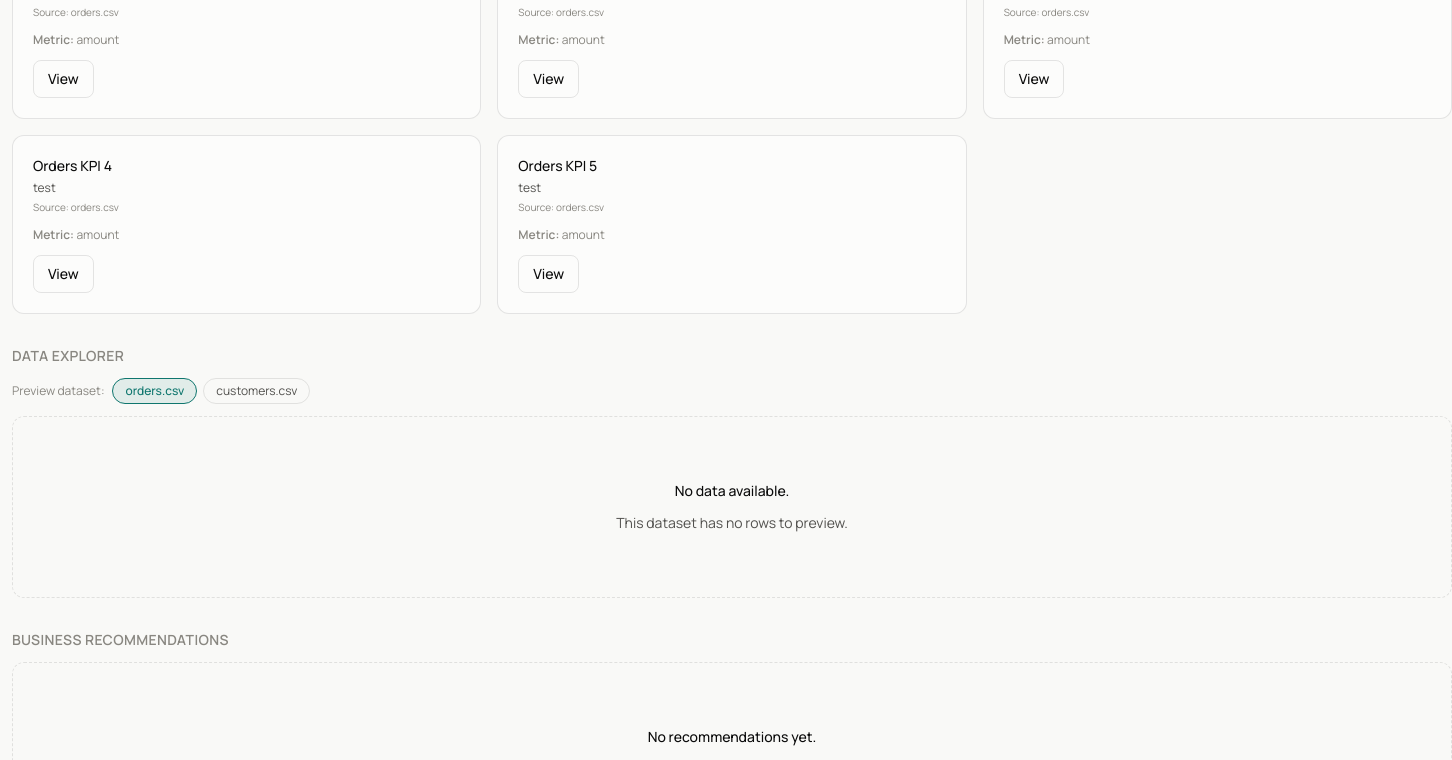
Test: Suggested Visualizations reacts to Data Explorer's preview dataset › surfaces the previewed dataset's own suggestions even when another dataset's already fill the cap
(page scrolled)
Expected: the text "Customers KPI" is not shown
# Switch Data Explorer's preview to "customers".
Click the radio button with aria-label "preview customers.csv": x=257, y=391 [203,378,310,404]
(page scrolled)
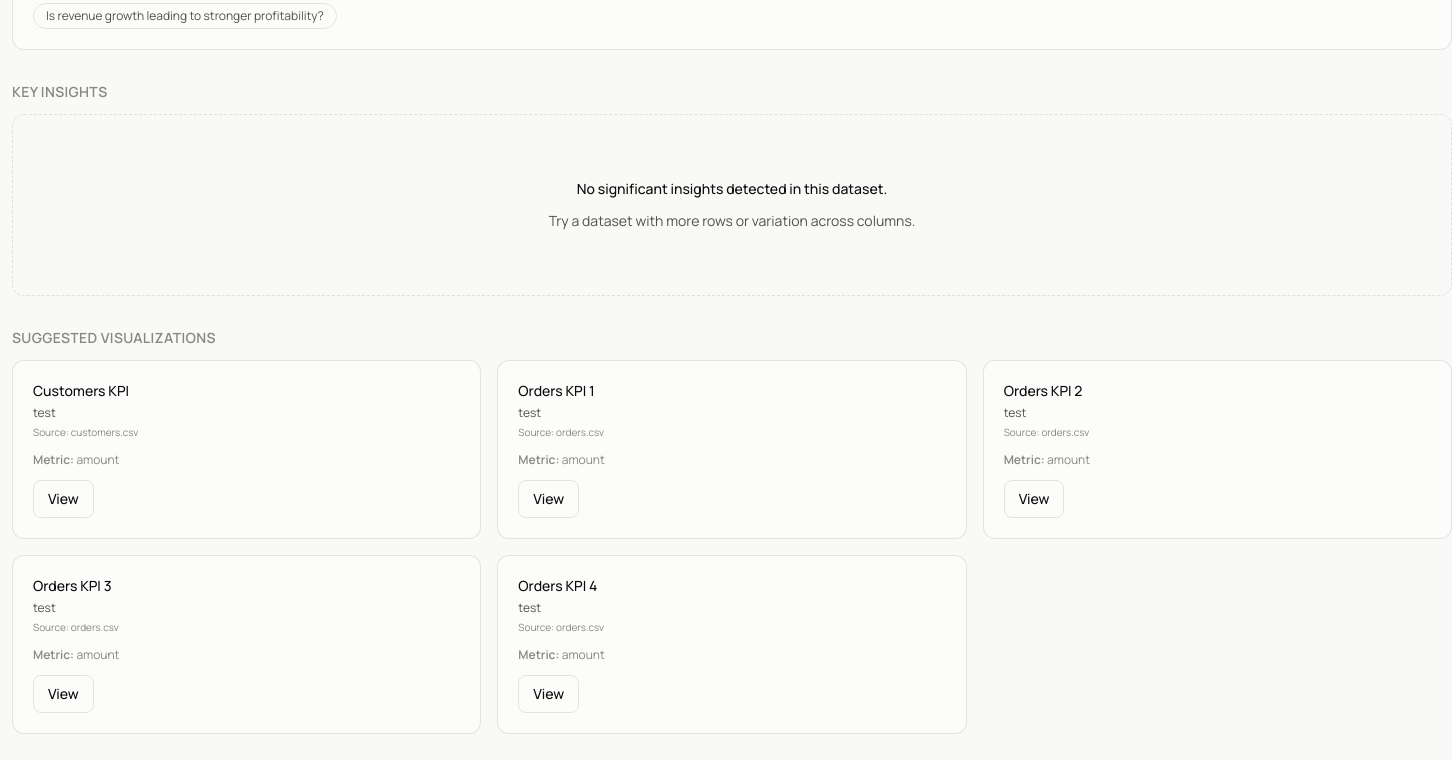
Expected: the text "Customers KPI" is shown, [33,381,129,400]
